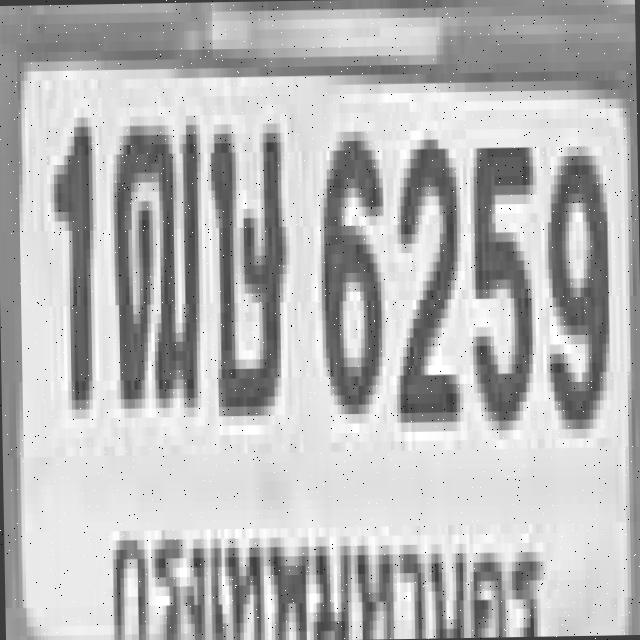1: (48, 107, 92, 400)
2: (390, 129, 458, 413)
27ThorPhuThao: (108, 110, 201, 404)
48SorRueSi: (206, 114, 285, 407)
5: (466, 138, 534, 422)
6: (314, 121, 382, 405)
9: (543, 136, 607, 420)
Bangkok: (101, 492, 542, 640)
